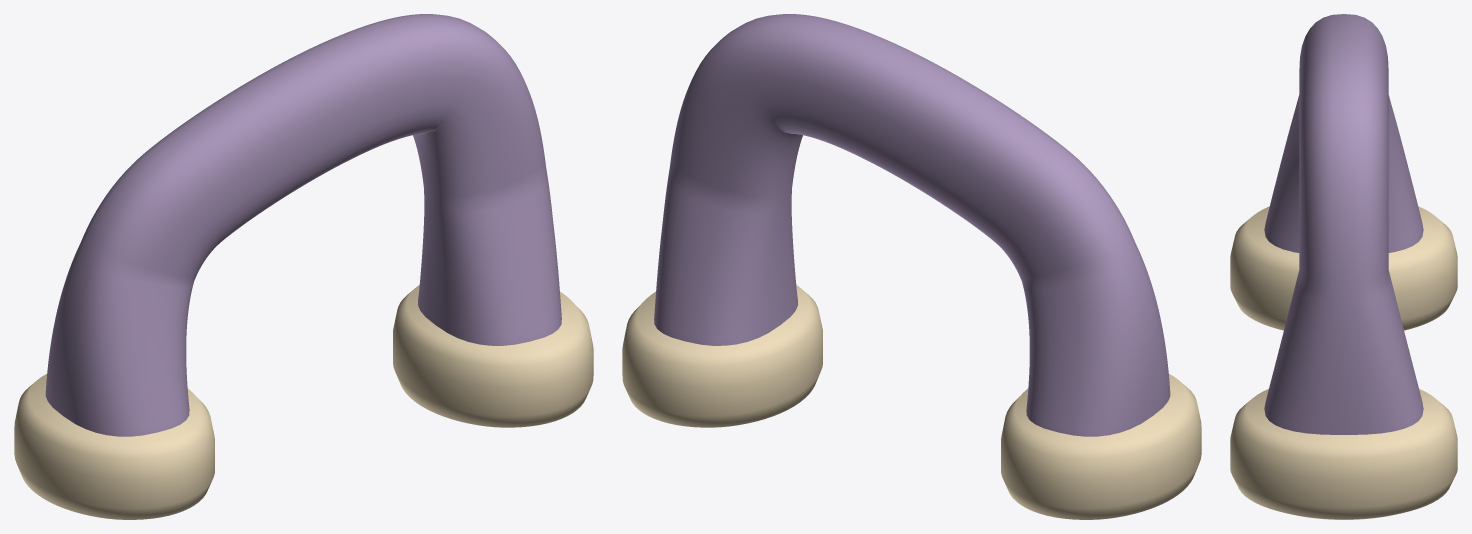
The model's file is building_arch_v03.glb.
3 renders of one model, left to right at view 1: azimuth 30°, elevation 25°; view 2: azimuth 150°, elevation 25°; view 3: azimuth 270°, elevation 25°, orthographic.
Visible parts, largest first — view 1: arch_beam, arch_foot_l, arch_foot_r; view 2: arch_beam, arch_foot_l, arch_foot_r; view 3: arch_beam, arch_foot_r, arch_foot_l.
Boxes of the visible parts, x1=… form: arch_beam: x1=45, y1=14, x2=561, y2=436; arch_foot_l: x1=14, y1=374, x2=214, y2=519; arch_foot_r: x1=393, y1=285, x2=593, y2=427; arch_beam: x1=654, y1=14, x2=1170, y2=436; arch_foot_l: x1=1001, y1=374, x2=1201, y2=519; arch_foot_r: x1=622, y1=285, x2=822, y2=427; arch_beam: x1=1264, y1=14, x2=1423, y2=434; arch_foot_r: x1=1230, y1=389, x2=1457, y2=519; arch_foot_l: x1=1230, y1=206, x2=1457, y2=330.
Size of the model in its own units: 5.89 by 4.03 by 2.17.
